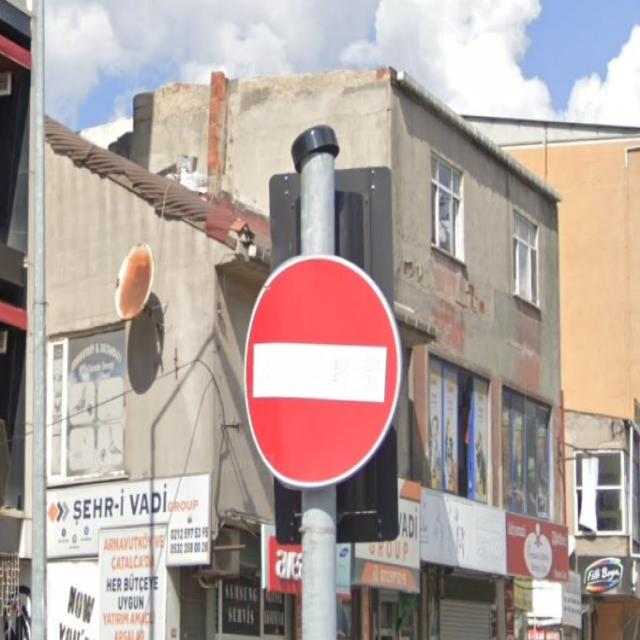girisyok: (243, 256, 402, 488)
